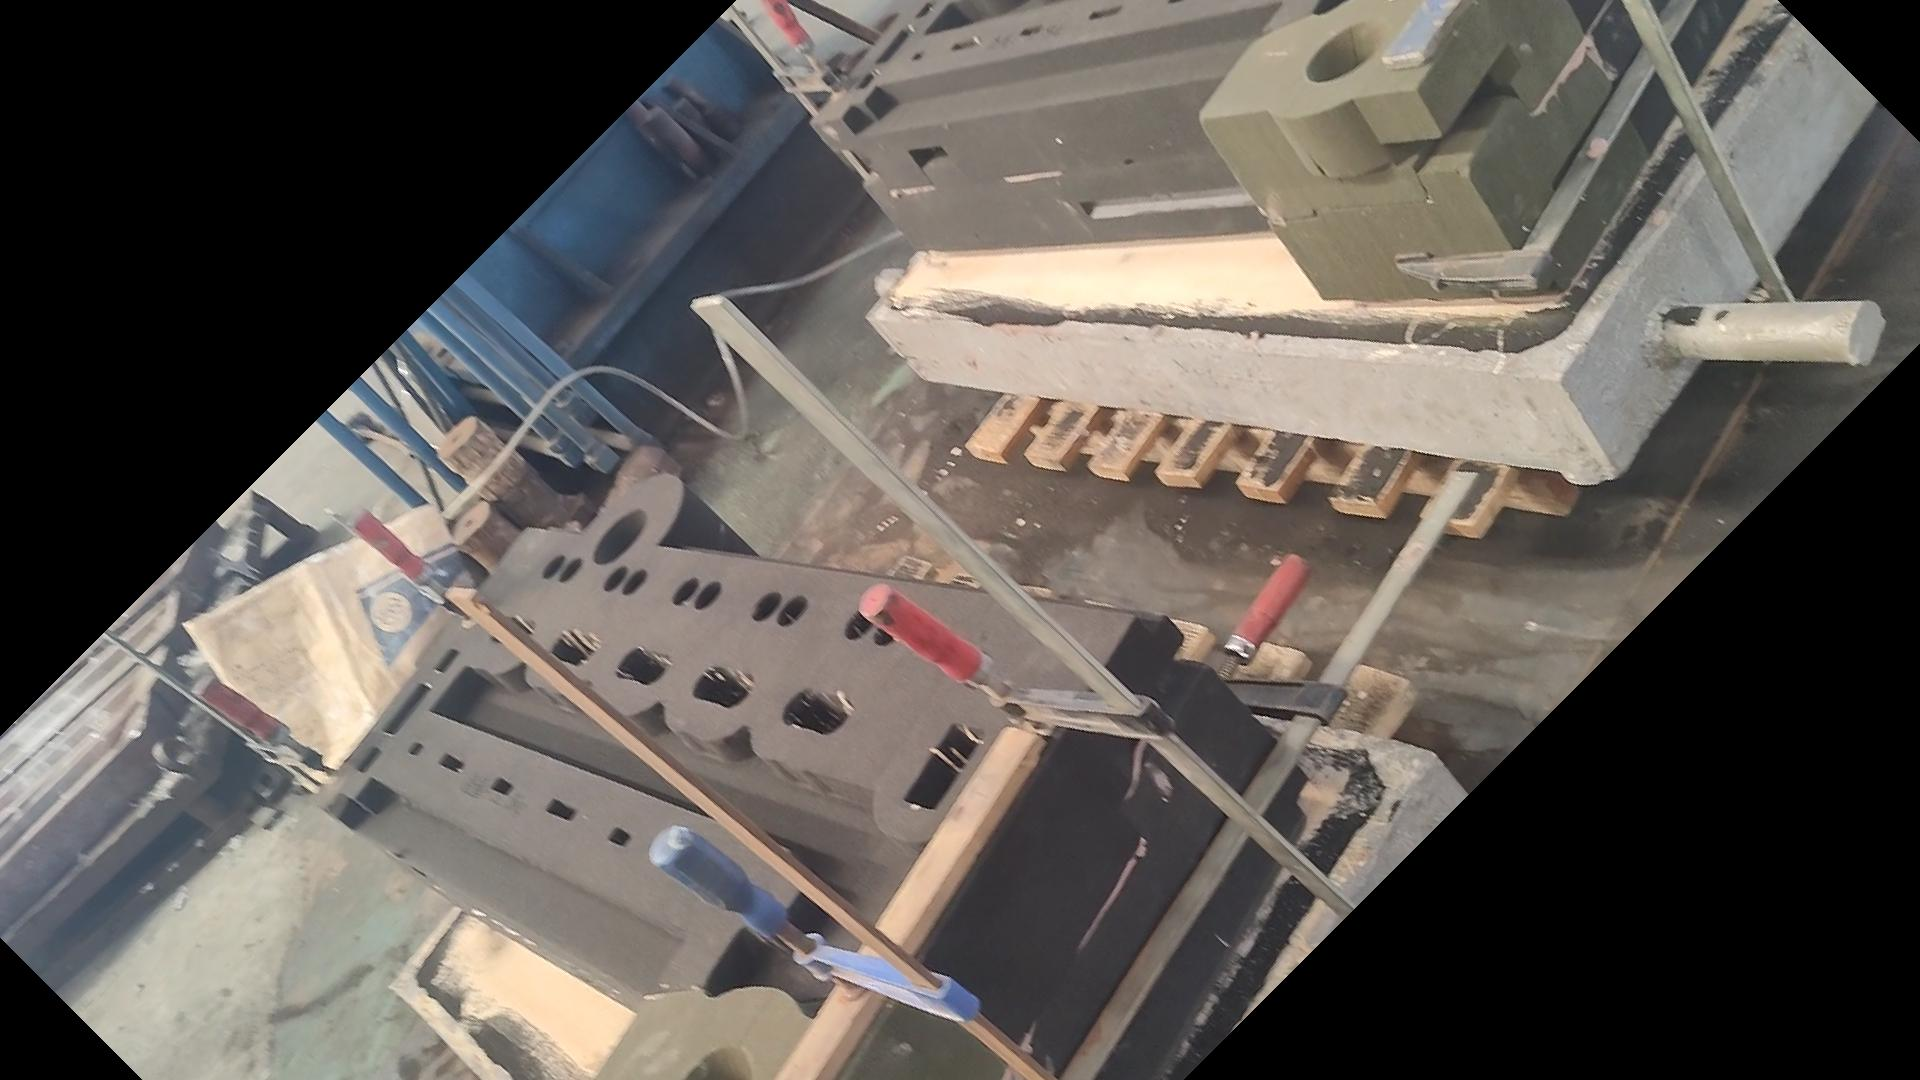pouring hole: (1305, 18, 1389, 82), (593, 510, 647, 564), (680, 1044, 754, 1080), (843, 47, 869, 73), (872, 9, 899, 32), (820, 47, 841, 69)
